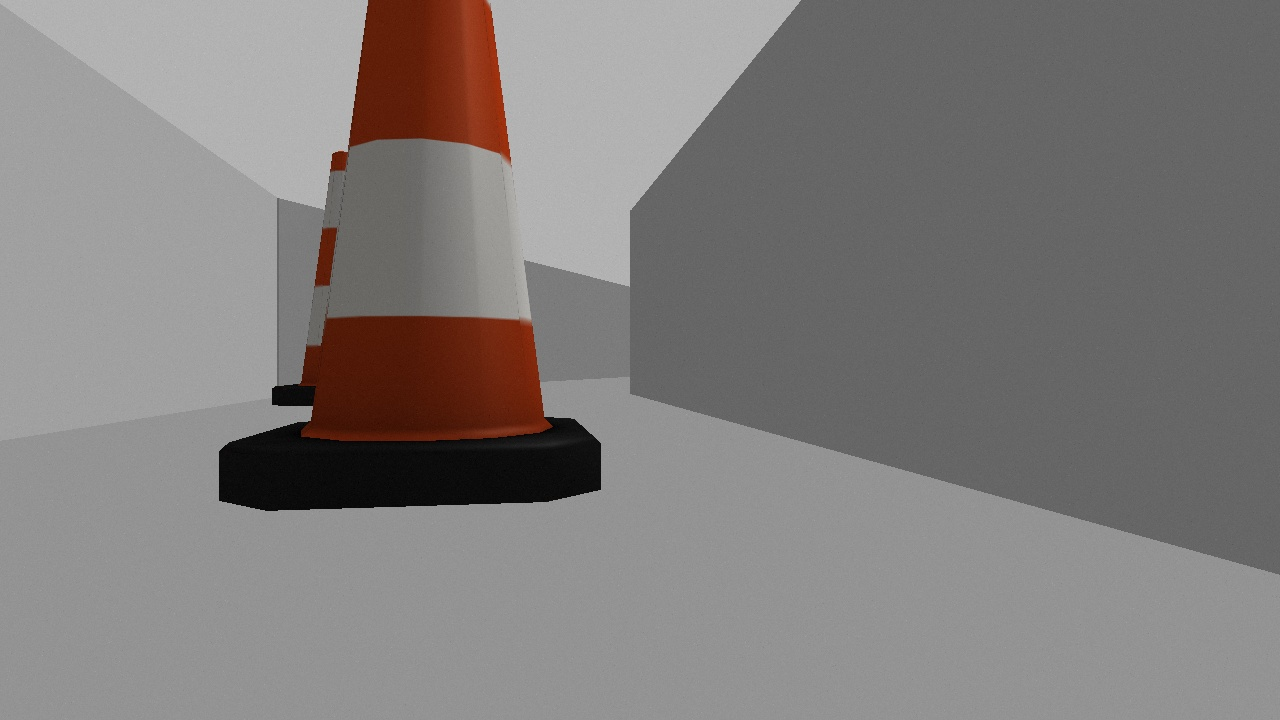barricade: (195, 1, 618, 526), (263, 141, 398, 418)
